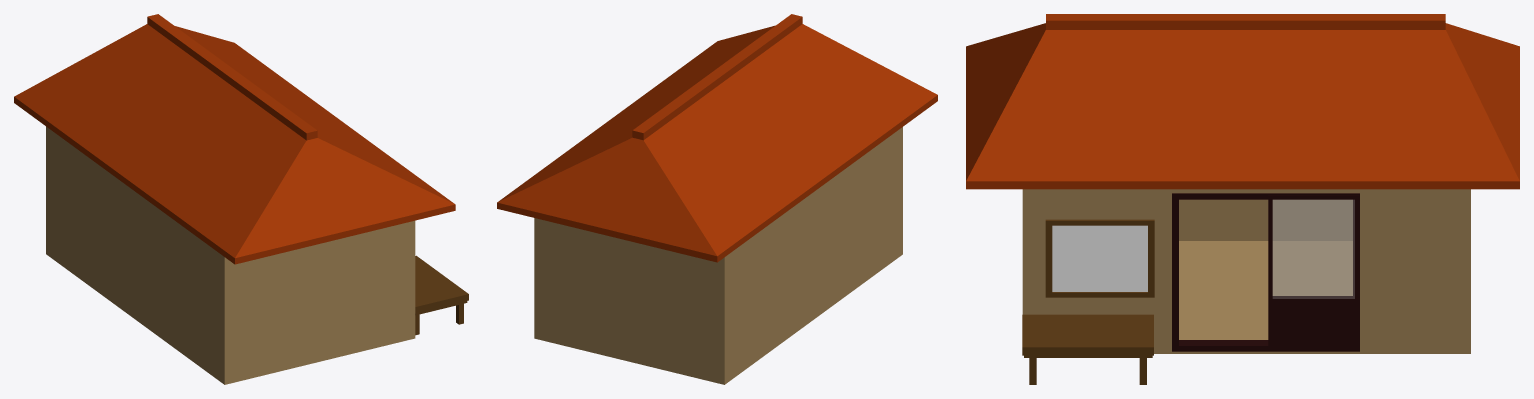
Rendered from house.fbx.
The picture shows the model from 3 angles, left to right: view 1: azimuth 30°, elevation 25°; view 2: azimuth 150°, elevation 25°; view 3: azimuth 270°, elevation 25°; orthographic projection. The views are drawn at different scales.
Visible parts, largest first — view 1: Cube, Cube.001; view 2: Cube; view 3: Cube, Cube.004, Cube.002, Cube.001, Cube.003.
Part boxes in pixels (box(x1,y1,x2,y2)): Cube: box(14, 14, 455, 384); Cube.001: box(415, 255, 468, 335); Cube: box(497, 14, 937, 384); Cube: box(966, 14, 1519, 353); Cube.004: box(1268, 195, 1359, 351); Cube.002: box(1045, 219, 1154, 297); Cube.001: box(1022, 314, 1153, 384); Cube.003: box(1172, 193, 1359, 351).
Size of the model in its own units: 2304 by 1910 by 3435.
